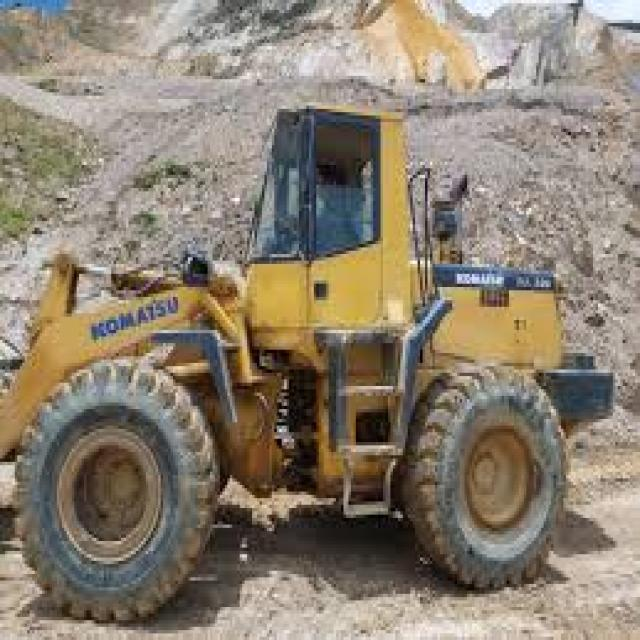buldozerpayloadergrader: (10, 97, 613, 616)
